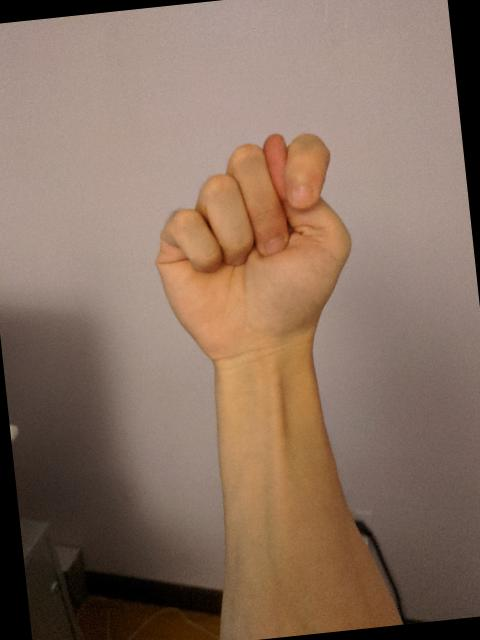T: (139, 122, 369, 378)
